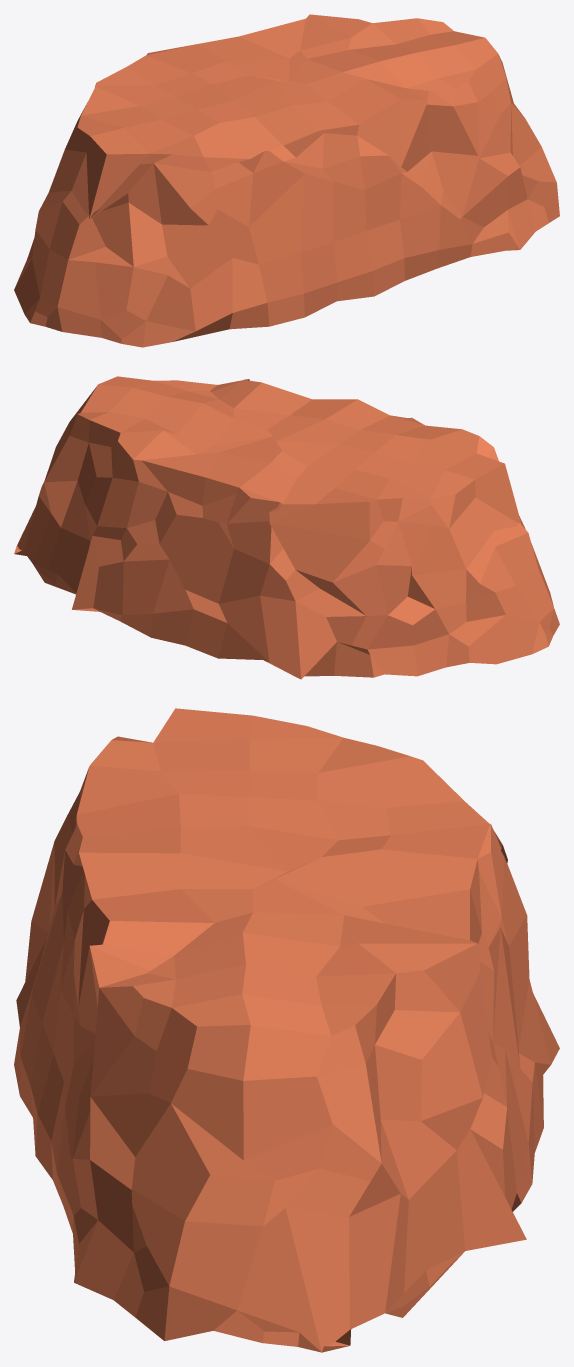
The model's file is Rock_V03.fbx.
3 views of the same model, one above another, from view 1: azimuth 30°, elevation 25°; view 2: azimuth 150°, elevation 25°; view 3: azimuth 270°, elevation 25° (orthographic). The views are drawn at different scales.
Parts seen in each view (by area): view 1: Rock_V03; view 2: Rock_V03; view 3: Rock_V03.
Part boxes in pixels (x1=…): Rock_V03: x1=14, y1=14, x2=559, y2=347; Rock_V03: x1=14, y1=376, x2=559, y2=679; Rock_V03: x1=14, y1=708, x2=559, y2=1352.
Bounding box in the file's own units: 3024 × 984 × 1661.
